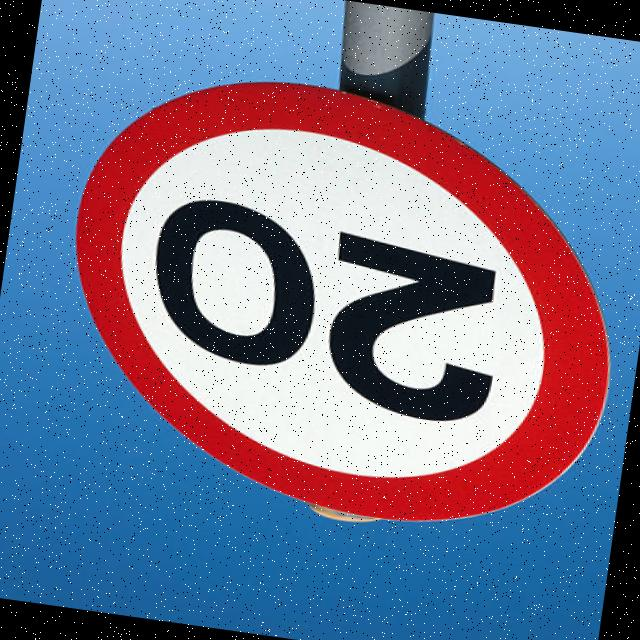speed_limit_20: (28, 52, 640, 559)
